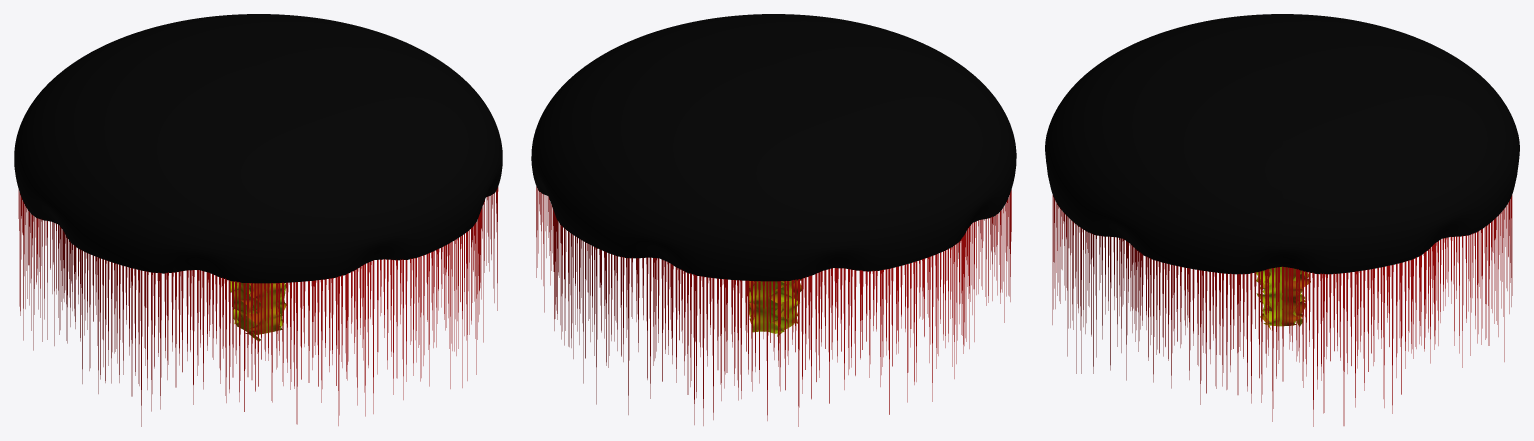
Rendered from moon_jelly.glb.
3 renders of one model, left to right at view 1: azimuth 30°, elevation 25°; view 2: azimuth 150°, elevation 25°; view 3: azimuth 270°, elevation 25°, orthographic. The views are drawn at different scales.
Visible parts, largest first — view 1: moon_jelly; view 2: moon_jelly; view 3: moon_jelly.
Part boxes in pixels (left/top/right/bottom): moon_jelly: left=14, top=14, right=502, bottom=426; moon_jelly: left=531, top=14, right=1016, bottom=426; moon_jelly: left=1045, top=14, right=1519, bottom=426.
Bounding box in the file's own units: 1.99 × 1.24 × 1.99.
